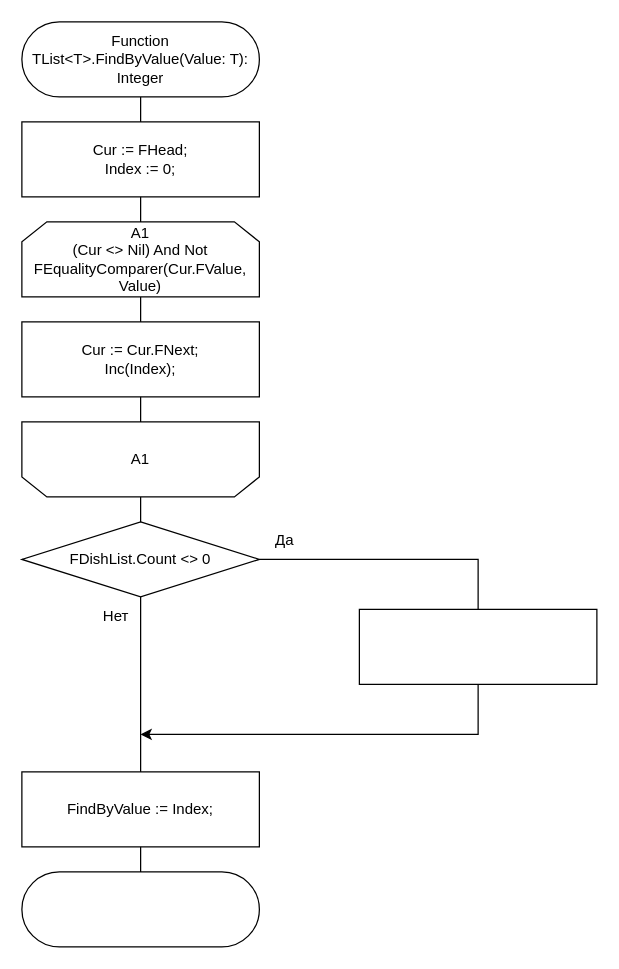
Some shapes in this 619 by 969 pixel diagram are drawn without their labels. Each missing label, with the centre of its shape:
"Index := -1;" belongs at point (477, 646).
"Конец" belongs at point (140, 909).
